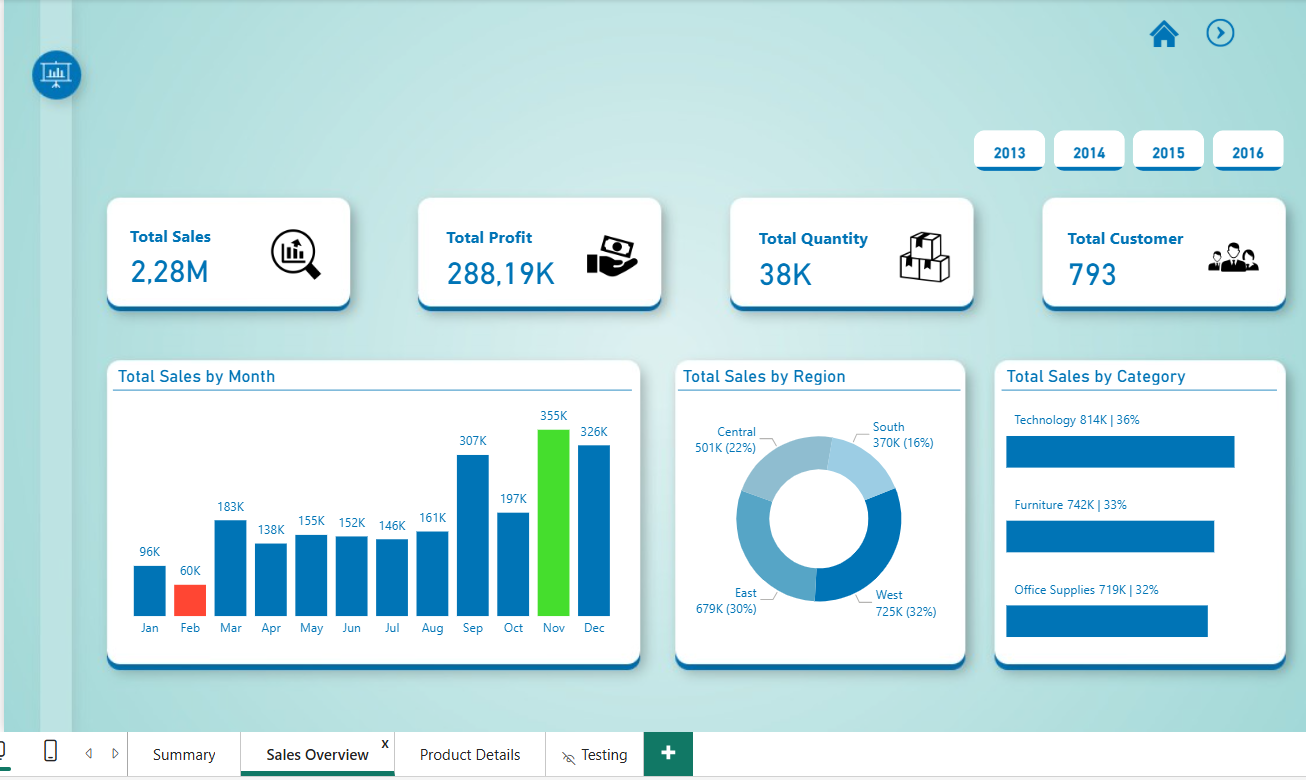

The dashboard page shown, as its layout file describes it:
{"tool":"powerbi","page":{"name":"Sales Overview","canvas":[1280,720],"ordinal":1},"visuals":[{"type":"cardVisual","fields":{"Data":["All Measure.Total Sales"]},"box":[107,203.5,222.1,89.5],"z":0},{"type":"cardVisual","fields":{"Data":["All Measure.Total Profit"]},"box":[417.4,204.7,222.1,89.5],"z":1000},{"type":"cardVisual","fields":{"Data":["All Measure.Total Quantity"]},"box":[724.4,205.8,222.1,89.5],"z":2000},{"type":"cardVisual","fields":{"Data":["All Measure.Total Customer"]},"box":[1026.7,205.8,222.1,89.5],"z":3000},{"type":"clusteredColumnChart","title":"Total Sales by Month","fields":{"Y":["All Measure.Total Sales"],"Category":["Calendar.MonthName"]},"box":[107.1,359.5,509.5,275],"z":4000},{"type":"advancedSlicerVisual","fields":{"Values":["Calendar.Date.Variation.Date Hierarchy.Year"]},"box":[947.6,123.8,315.5,50],"z":5000},{"type":"donutChart","fields":{"Y":["All Measure.Total Sales"],"Category":["Orders.Region"]},"box":[661.9,359.5,277.4,275],"z":6000},{"type":"clusteredBarChart","title":"Total Sales by Category","fields":{"Category":["Orders.Category"],"Y":["All Measure.Dummy","All Measure.Total Sales"]},"box":[978.6,359.5,270.2,275],"z":7000},{"type":"image","box":[1111.6,16.3,54.7,36],"z":7001},{"type":"image","box":[1166.3,15.1,54.7,37.2],"z":7002}]}

Visuals, with their boxes on the page's 1280x720 design canvas (x1, y1, x2, y2). These are canvas units, not pixel positions in the 1306x780 screenshot, which may show the page scaled, cropped or inside an application window:
cardVisual - All Measure.Total Sales: crop(107, 204, 329, 293)
cardVisual - All Measure.Total Profit: crop(417, 205, 640, 294)
cardVisual - All Measure.Total Quantity: crop(724, 206, 946, 295)
cardVisual - All Measure.Total Customer: crop(1027, 206, 1249, 295)
"Total Sales by Month" clusteredColumnChart: crop(107, 360, 617, 634)
advancedSlicerVisual - Calendar.Date.Variation.Date Hierarchy.Year: crop(948, 124, 1263, 174)
donutChart - All Measure.Total Sales x Orders.Region: crop(662, 360, 939, 634)
"Total Sales by Category" clusteredBarChart: crop(979, 360, 1249, 634)
image: crop(1112, 16, 1166, 52)
image: crop(1166, 15, 1221, 52)
